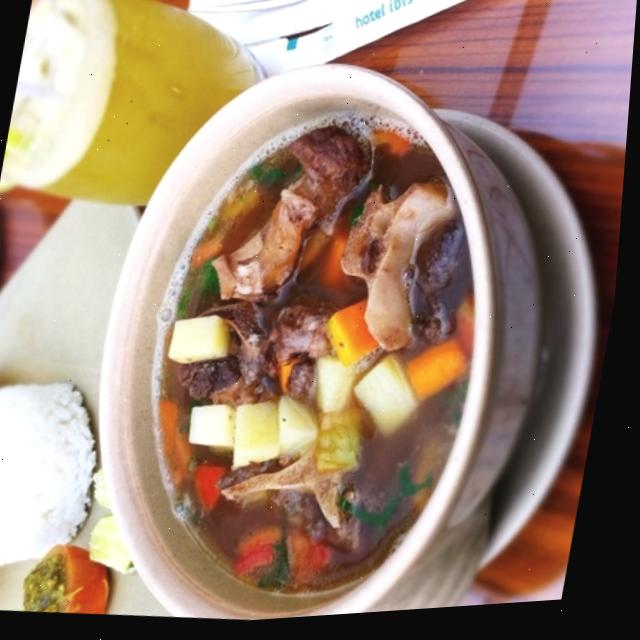汤锅炖物: (33, 40, 610, 636)
